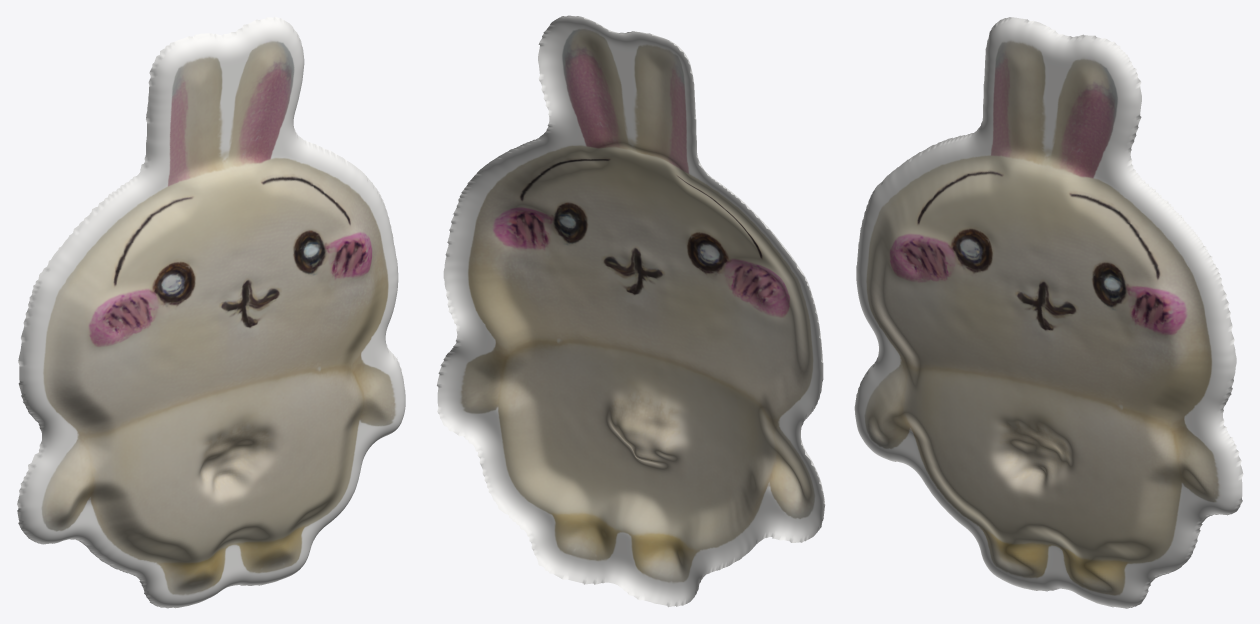
The model's file is sticker.glb.
3 renders of one model, left to right at view 1: azimuth 30°, elevation 25°; view 2: azimuth 150°, elevation 25°; view 3: azimuth 330°, elevation 25°, orthographic.
Visible parts, largest first — view 1: 토끼 인형 sticker; view 2: 토끼 인형 sticker; view 3: 토끼 인형 sticker.
Part boxes in pixels (<box>): 토끼 인형 sticker: <box>17,16,405,608</box>; 토끼 인형 sticker: <box>437,15,825,607</box>; 토끼 인형 sticker: <box>854,17,1243,608</box>.
Bounding box in the file's own units: 0.0431 × 0.0605 × 0.00433.
Materials: 1 (1 with a texture image).
